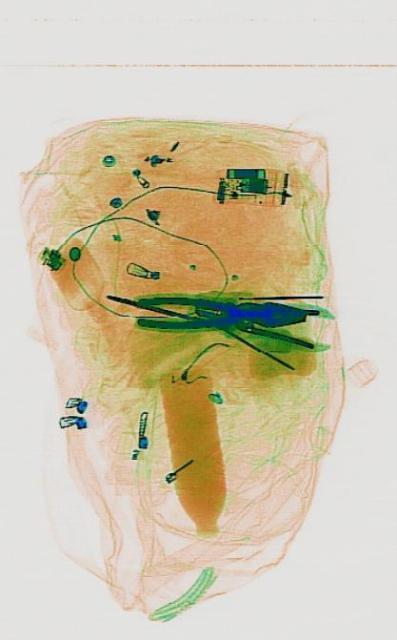Pliers: (135, 294, 304, 330)
